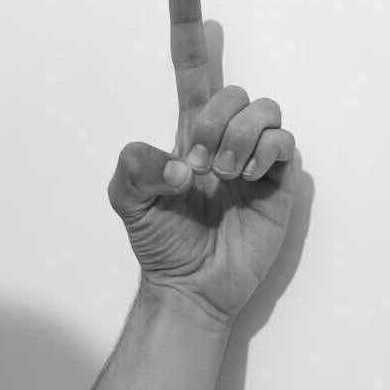D: (110, 1, 296, 317)
